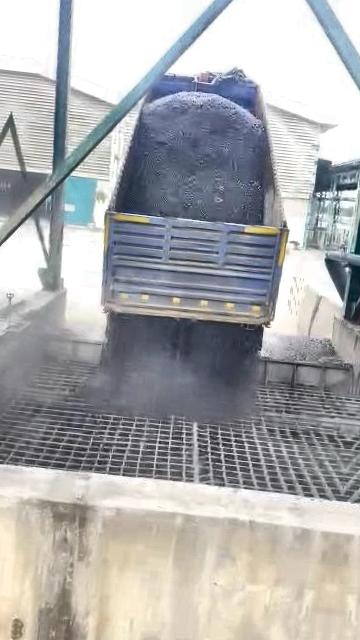gravel: (115, 92, 266, 223), (83, 315, 259, 422), (262, 330, 344, 366)
